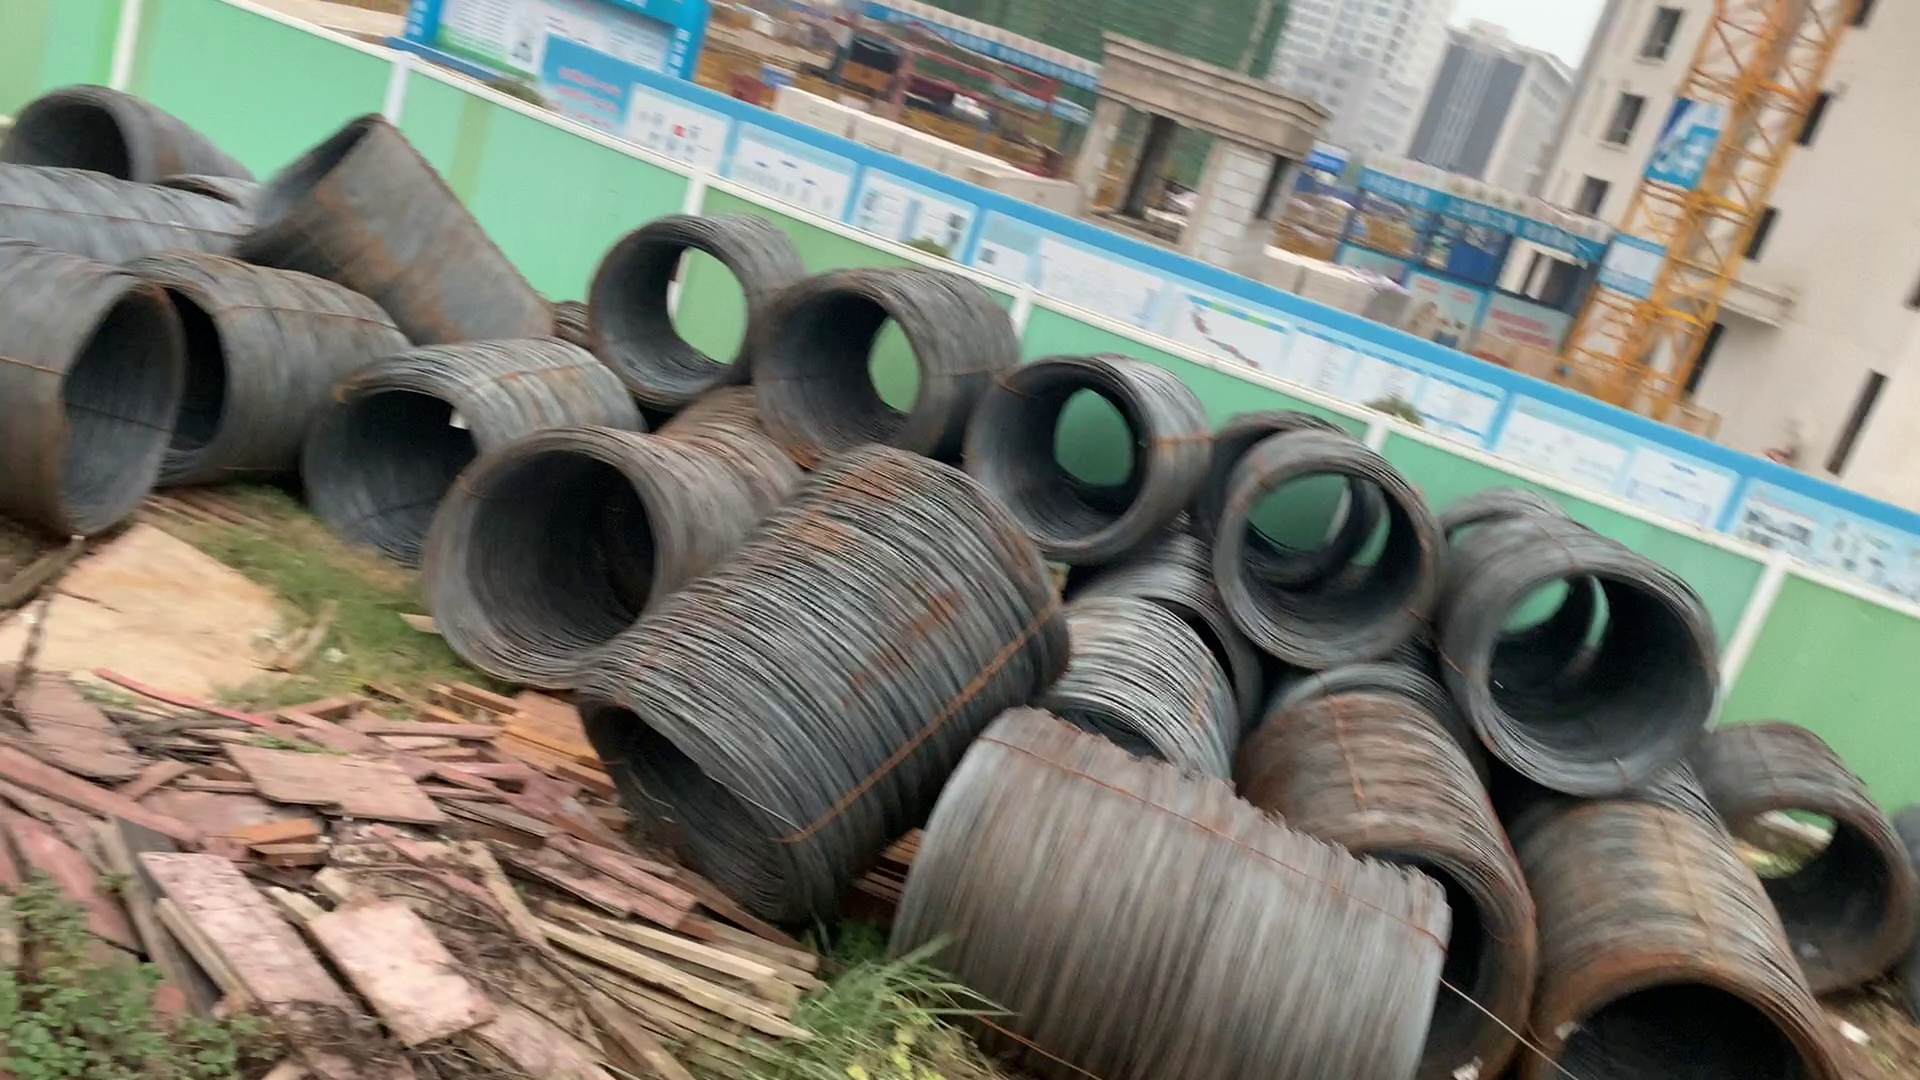coil: (560, 676, 827, 942), (1465, 560, 1724, 807), (427, 438, 665, 684), (1338, 835, 1532, 1073), (1232, 452, 1443, 669), (1704, 785, 1920, 994), (963, 343, 1156, 563), (51, 272, 193, 560), (596, 207, 760, 425), (305, 368, 479, 568), (746, 285, 945, 458), (1549, 963, 1836, 1080), (165, 255, 255, 493), (1058, 676, 1211, 810), (255, 117, 390, 249), (7, 96, 140, 185)
